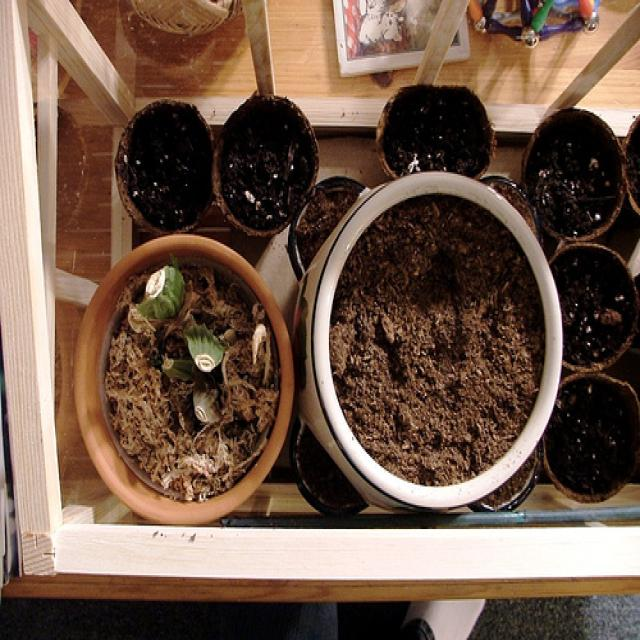pottedplant: (72, 233, 296, 525)
